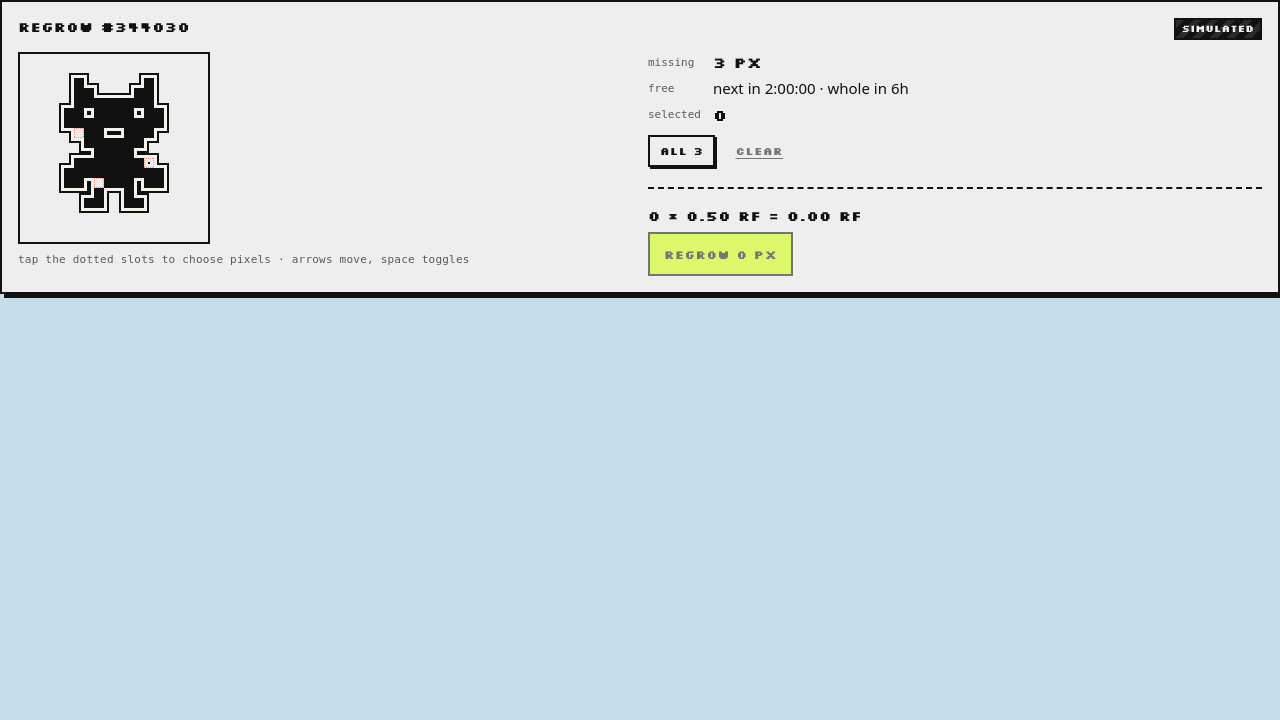
Test: RegrowFlow › blocks confirming when the balance is short
The image size is (1280, 720).
Click the button "all 3" at (682, 151), box [648,135,716,167]
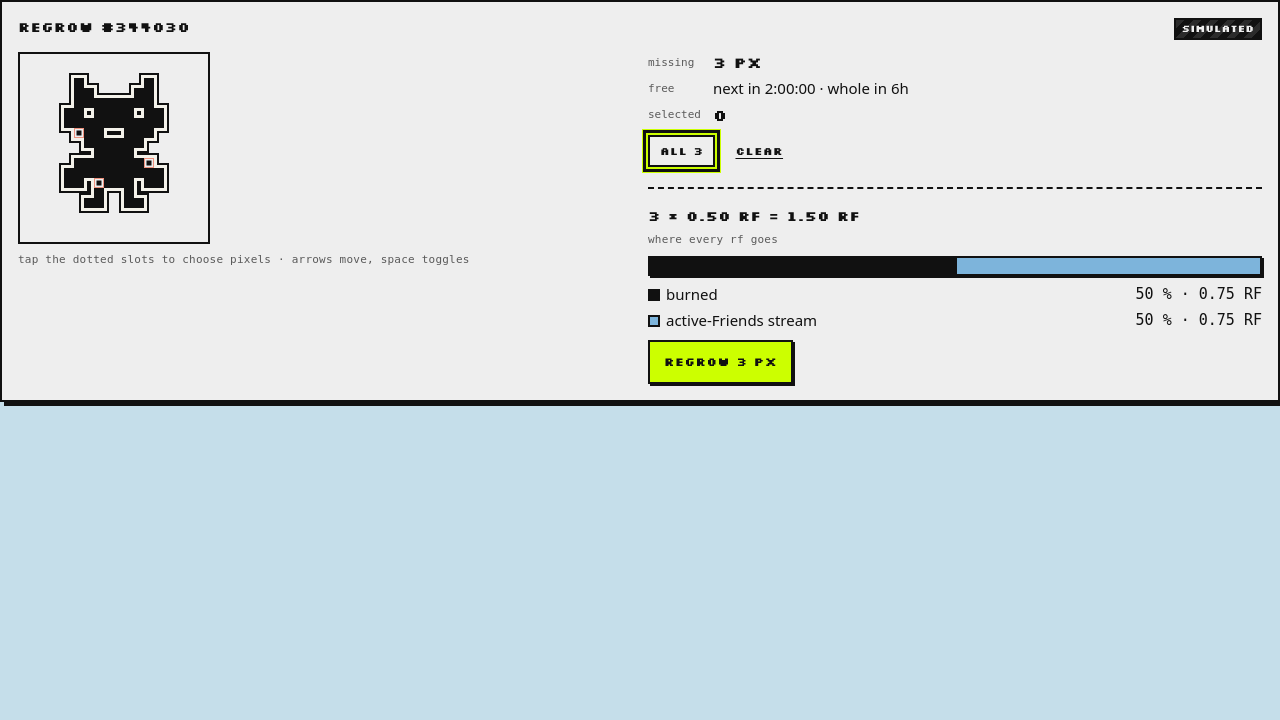
Click the button "regrow 3 px" at (721, 362), box [648,340,793,384]
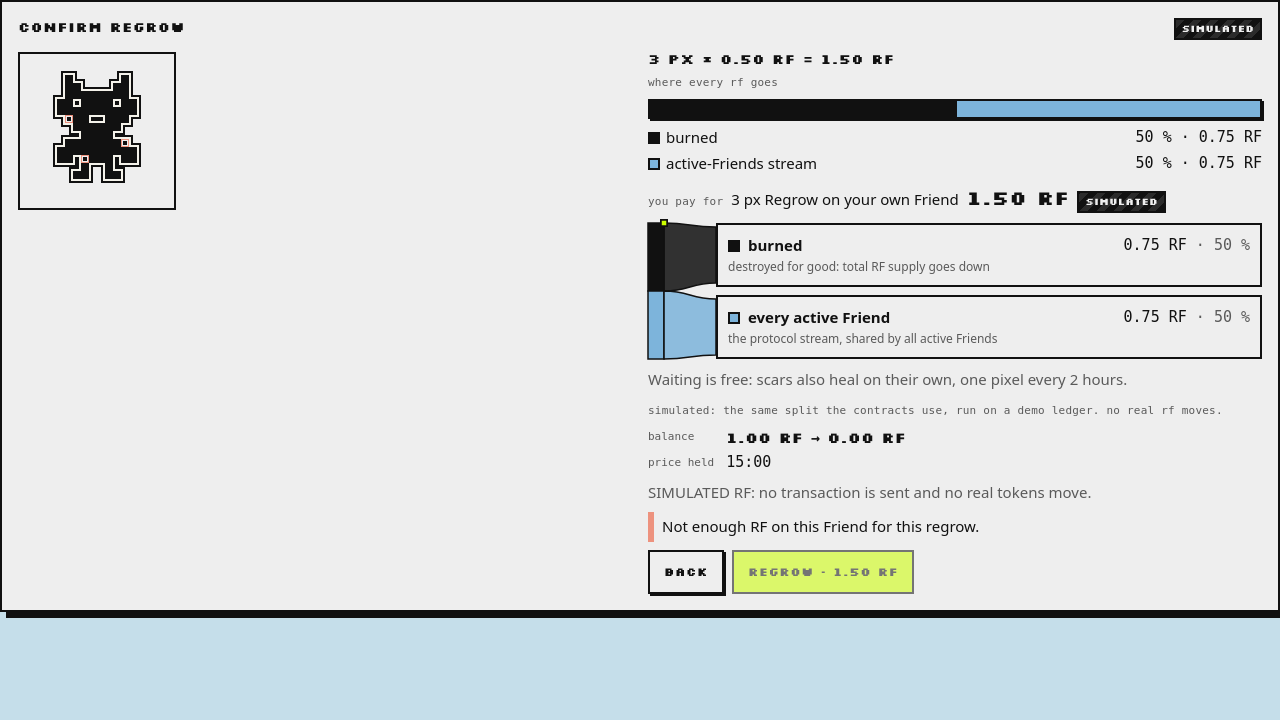
expect the button "regrow · 1.50 RF" is disabled: met, box [732,550,914,594]
expect the text "Not enough RF on this Friend for this regrow." is shown: met, box [648,512,1262,542]
